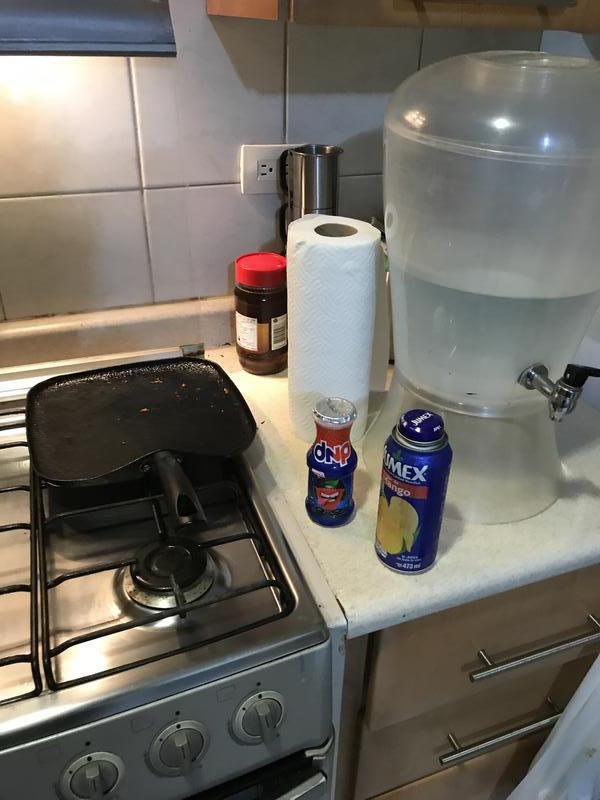danup: (305, 398, 357, 525)
jugo_jumex: (377, 412, 446, 575)
